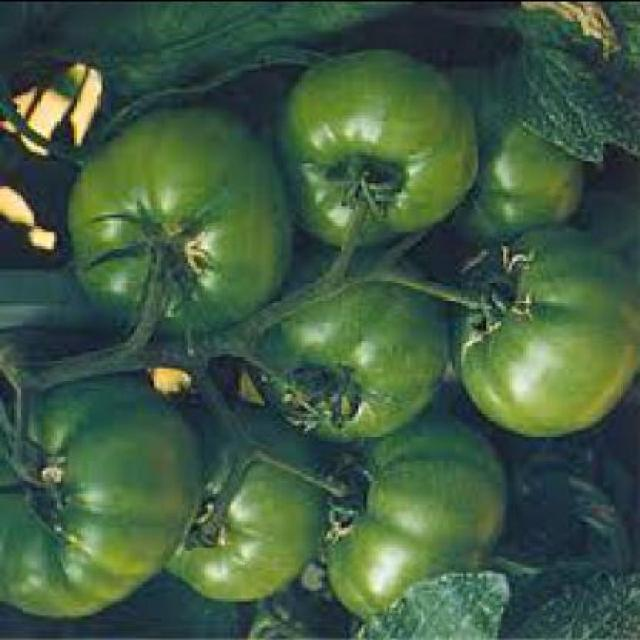BIODEGRADABLE: (0, 354, 200, 620), (63, 104, 285, 338), (444, 199, 638, 441), (3, 3, 402, 120), (236, 236, 458, 438), (276, 48, 484, 250), (316, 409, 507, 620), (158, 390, 322, 598), (435, 54, 577, 245), (503, 3, 637, 171)
